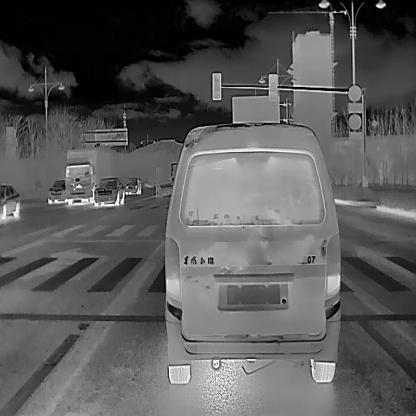car: (164, 119, 342, 384), (65, 148, 114, 202), (93, 175, 124, 204), (0, 184, 21, 219), (47, 178, 66, 202), (125, 176, 140, 193)
light: (209, 68, 225, 104), (267, 71, 280, 104)
sign: (345, 81, 365, 105), (346, 113, 366, 132)
